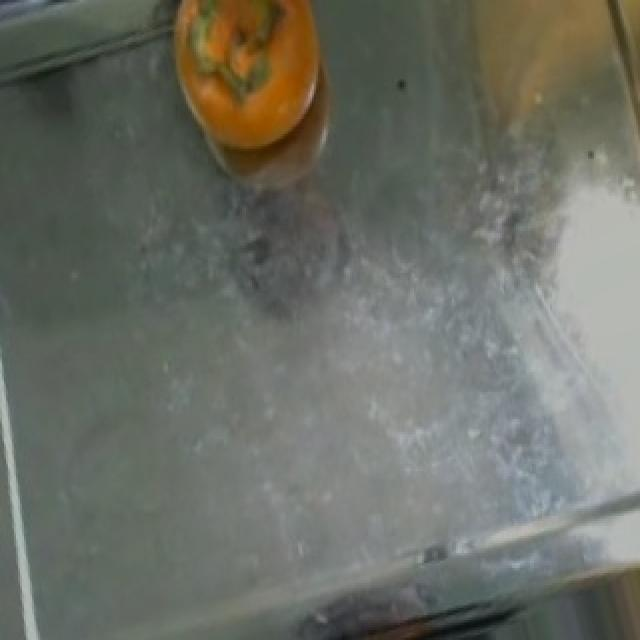Fruit: (148, 2, 346, 174)
